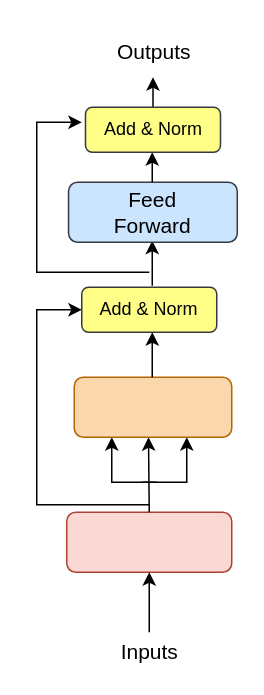
Image size: 264x695. Some labels were removed from this diagram. Each missing label, with the centre of its shape:
"Input Embedding" goes at [148,541].
"Multi-Head Attention" goes at [152,406].
